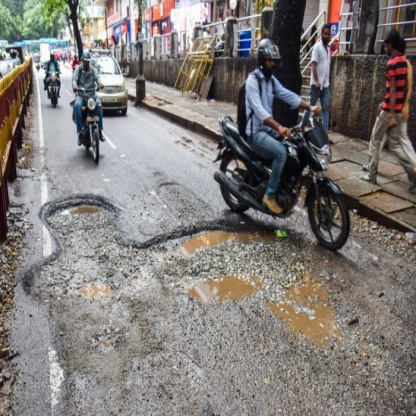pothole: (34, 192, 360, 416)
